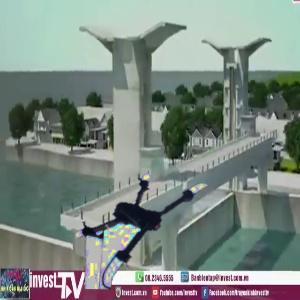drone: (76, 153, 215, 292)
